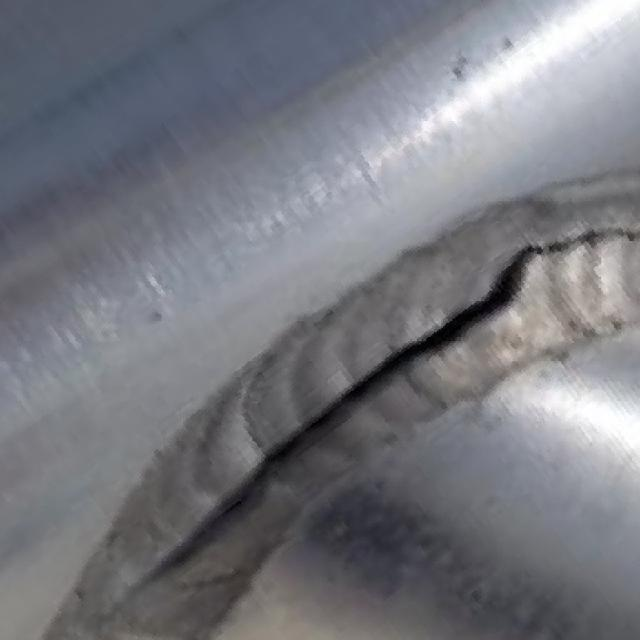crack: (157, 446, 278, 566), (287, 346, 429, 444), (424, 258, 527, 355), (524, 229, 640, 250)
